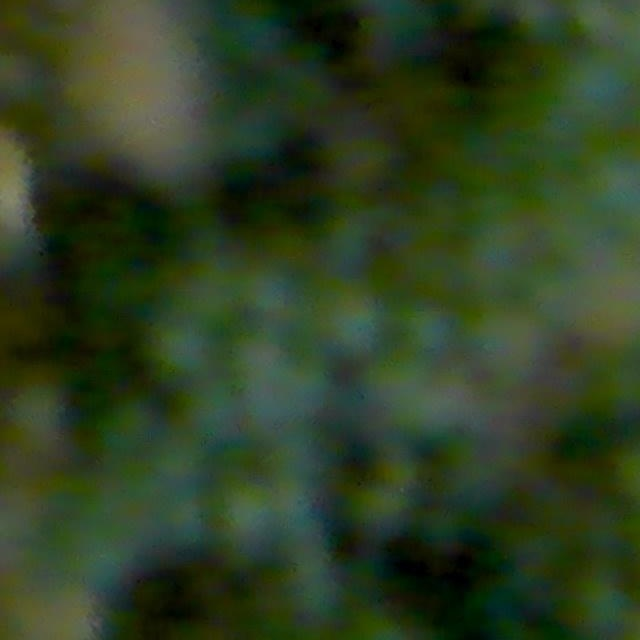SeaGrape: (553, 48, 638, 132), (215, 477, 289, 556), (317, 282, 388, 359), (148, 316, 218, 383), (263, 357, 332, 422), (567, 573, 635, 638), (186, 381, 246, 444), (236, 262, 293, 318), (404, 303, 460, 358)
